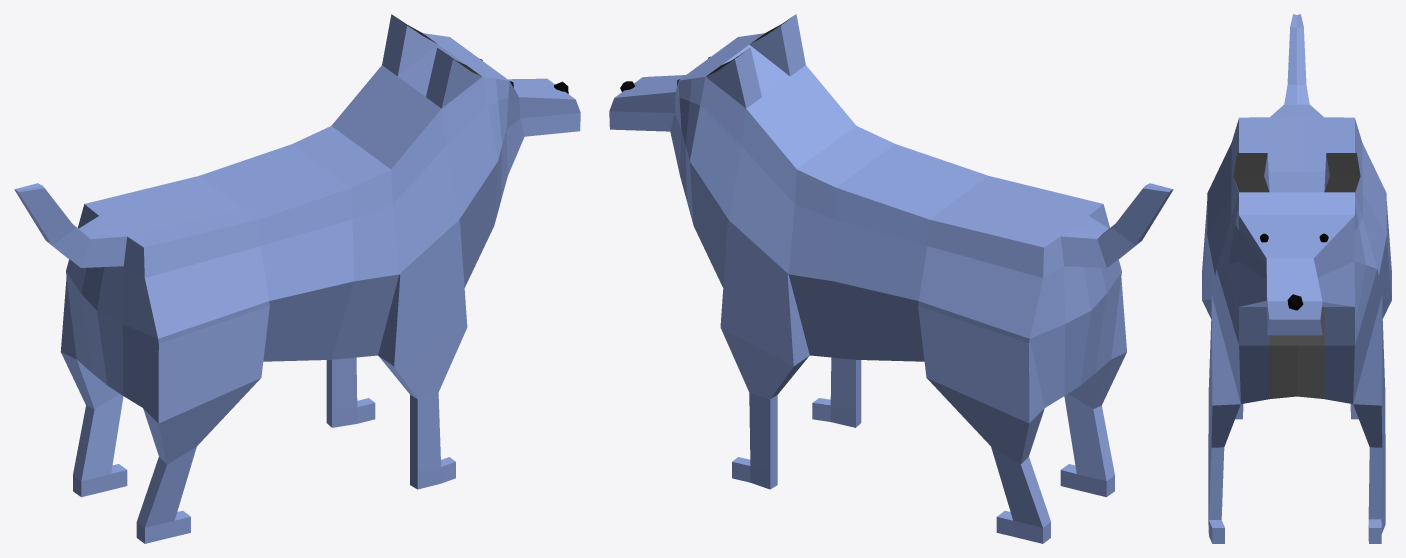
File: Doggy_V1.fbx
The picture shows the model from 3 angles, left to right: view 1: azimuth 30°, elevation 25°; view 2: azimuth 150°, elevation 25°; view 3: azimuth 270°, elevation 25°; orthographic projection. The views are drawn at different scales.
Visible parts, largest first — view 1: Plane; view 2: Plane; view 3: Plane.
Part boxes in pixels (bbox=[...]): Plane: bbox=[14, 14, 580, 543]; Plane: bbox=[609, 14, 1173, 543]; Plane: bbox=[1202, 14, 1391, 543].
Bounding box in the file's own units: 587 × 414 × 180.
